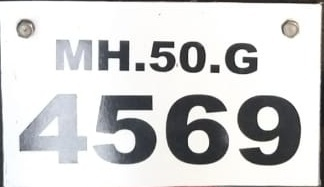character: (18, 91, 87, 164), (236, 94, 301, 166), (93, 93, 157, 165), (165, 93, 229, 165), (53, 36, 93, 71), (223, 41, 258, 74), (97, 37, 130, 71), (150, 38, 175, 72), (179, 41, 205, 73)
